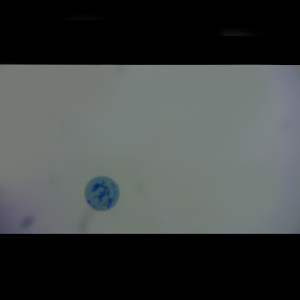aggregate reticulocyte: (84, 175, 121, 212)
